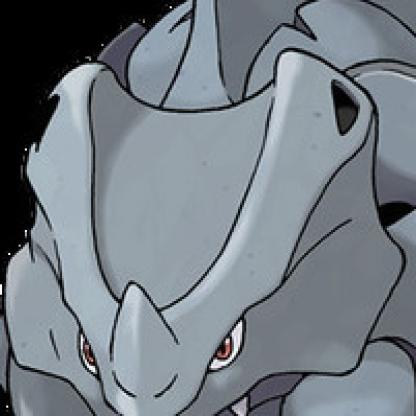Rhyhorn: (1, 1, 415, 415)
